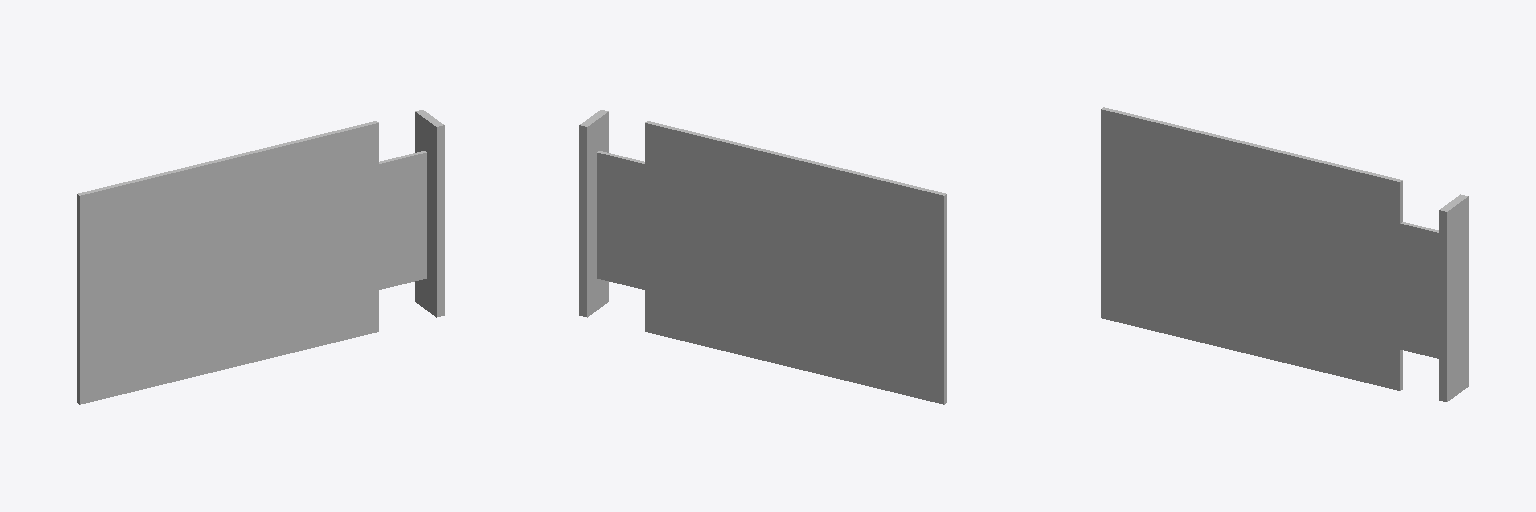
Rendered from sign.obj.
3 renders of one model, left to right at view 1: azimuth 30°, elevation 25°; view 2: azimuth 150°, elevation 25°; view 3: azimuth 330°, elevation 25°, orthographic.
Parts seen in each view (by area): view 1: ???; view 2: ???; view 3: ???.
Part boxes in pixels (bbox=[...]): ???: bbox=[77, 110, 444, 404]; ???: bbox=[579, 110, 946, 404]; ???: bbox=[1101, 107, 1468, 401].
Size of the model in its own units: 0.3896 by 0.2188 by 0.0408.